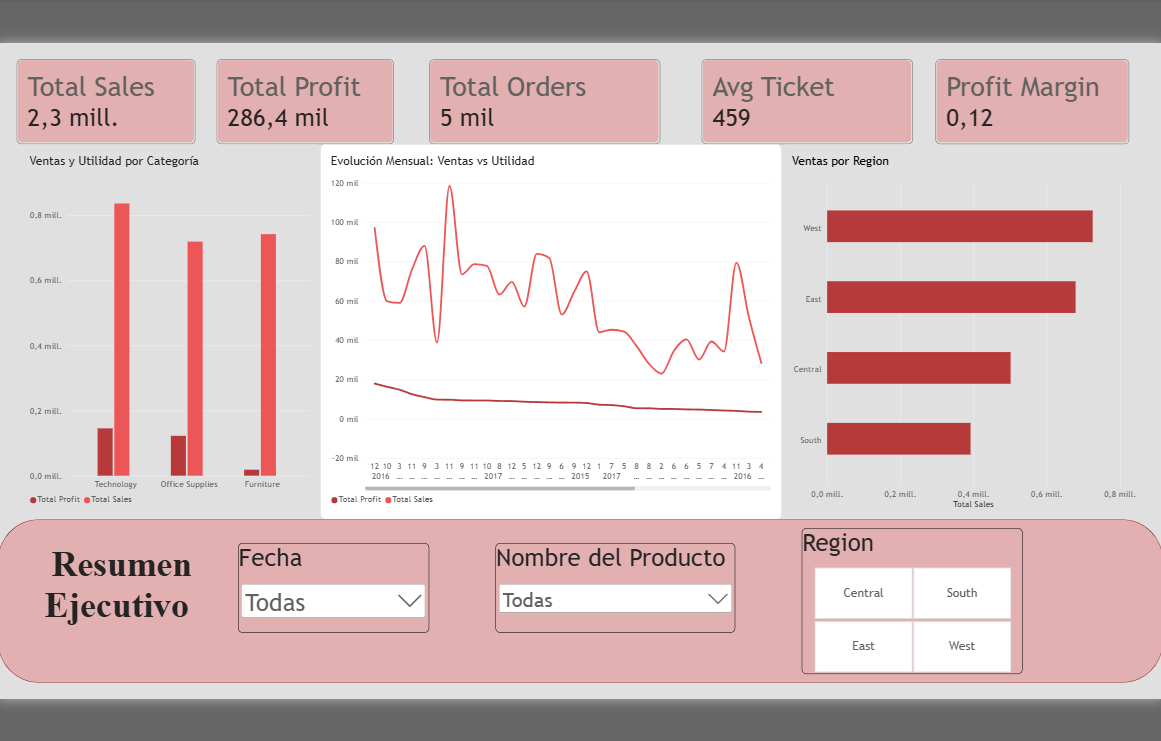

The dashboard page shown, as its layout file describes it:
{"tool":"powerbi","page":{"name":"Resumen","canvas":[1920,1080],"ordinal":0},"visuals":[{"type":"cardVisual","fields":{"Data":["Medidas DAX.Total Sales"]},"box":[30.9,26.8,294.3,140],"z":0},{"type":"cardVisual","fields":{"Data":["Medidas DAX.Total Profit"]},"box":[360.6,26.8,292.3,140],"z":1000},{"type":"cardVisual","fields":{"Data":["Medidas DAX.Total Orders"]},"box":[710.1,26.8,380.8,140],"z":2000},{"type":"cardVisual","fields":{"Data":["Medidas DAX.Avg Ticket"]},"box":[1160.9,26.8,347.9,140],"z":3000},{"type":"lineChart","title":"Evolución Mensual: Ventas vs Utilidad","fields":{"Category":["DIM_Fecha.Año","DIM_Fecha.Mes"],"Y":["Medidas DAX.Total Profit","Medidas DAX.Total Sales"]},"box":[531.6,166.9,760.3,618.2],"z":4000},{"type":"clusteredColumnChart","title":"Ventas y Utilidad por Categoría","fields":{"Category":["DIM_Producto.Category"],"Y":["Medidas DAX.Total Profit","Medidas DAX.Total Sales"]},"box":[35,166.9,496.6,618.2],"z":5000},{"type":"barChart","title":"Ventas por Region","fields":{"Category":["FACT_Ventas.Region"],"Y":["Medidas DAX.Total Sales"]},"box":[1292,166.9,601.7,618.2],"z":6000},{"type":"shape","box":[0,784.2,1920.4,269.6],"z":7000},{"type":"slicer","title":"Fecha","fields":{"Values":["DIM_Fecha.NombreMes","DIM_Fecha.Año"]},"box":[395.2,823.3,314.9,148.2],"z":8000},{"type":"textbox","box":[30.9,825.4,329.3,146.1],"z":9000},{"type":"slicer","title":"Nombre del Producto","fields":{"Values":["DIM_Producto.Product Name"]},"box":[819.2,823.3,395.2,148.2],"z":10000},{"type":"slicer","title":"Region","fields":{"Values":["FACT_Ventas.Region"]},"box":[1325.6,798.6,364.3,240.8],"z":11000},{"type":"cardVisual","fields":{"Data":["Medidas DAX.Profit Margin"]},"box":[1545.8,26.8,319,140],"z":12000}]}

Visuals, with their boxes on the page's 1920x1080 design canvas (x1, y1, x2, y2). These are canvas units, not pixel positions in the 1161x741 screenshot, which may show the page scaled, cropped or inside an application window:
cardVisual - Medidas DAX.Total Sales: <bbox>31, 27, 325, 167</bbox>
cardVisual - Medidas DAX.Total Profit: <bbox>361, 27, 653, 167</bbox>
cardVisual - Medidas DAX.Total Orders: <bbox>710, 27, 1091, 167</bbox>
cardVisual - Medidas DAX.Avg Ticket: <bbox>1161, 27, 1509, 167</bbox>
"Evolución Mensual: Ventas vs Utilidad" lineChart: <bbox>532, 167, 1292, 785</bbox>
"Ventas y Utilidad por Categoría" clusteredColumnChart: <bbox>35, 167, 532, 785</bbox>
"Ventas por Region" barChart: <bbox>1292, 167, 1894, 785</bbox>
shape: <bbox>0, 784, 1920, 1054</bbox>
"Fecha" slicer: <bbox>395, 823, 710, 972</bbox>
textbox: <bbox>31, 825, 360, 972</bbox>
"Nombre del Producto" slicer: <bbox>819, 823, 1214, 972</bbox>
"Region" slicer: <bbox>1326, 799, 1690, 1039</bbox>
cardVisual - Medidas DAX.Profit Margin: <bbox>1546, 27, 1865, 167</bbox>
